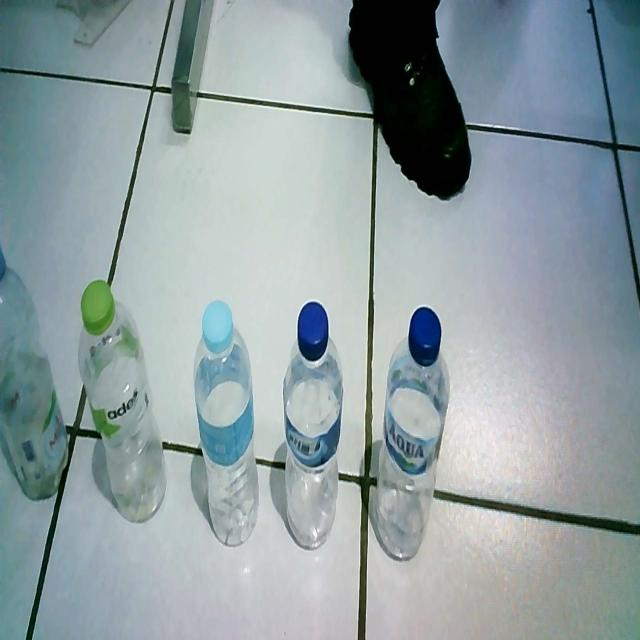botol: (79, 280, 168, 526), (377, 309, 452, 562), (1, 249, 71, 504), (195, 299, 260, 550), (283, 298, 345, 553)
